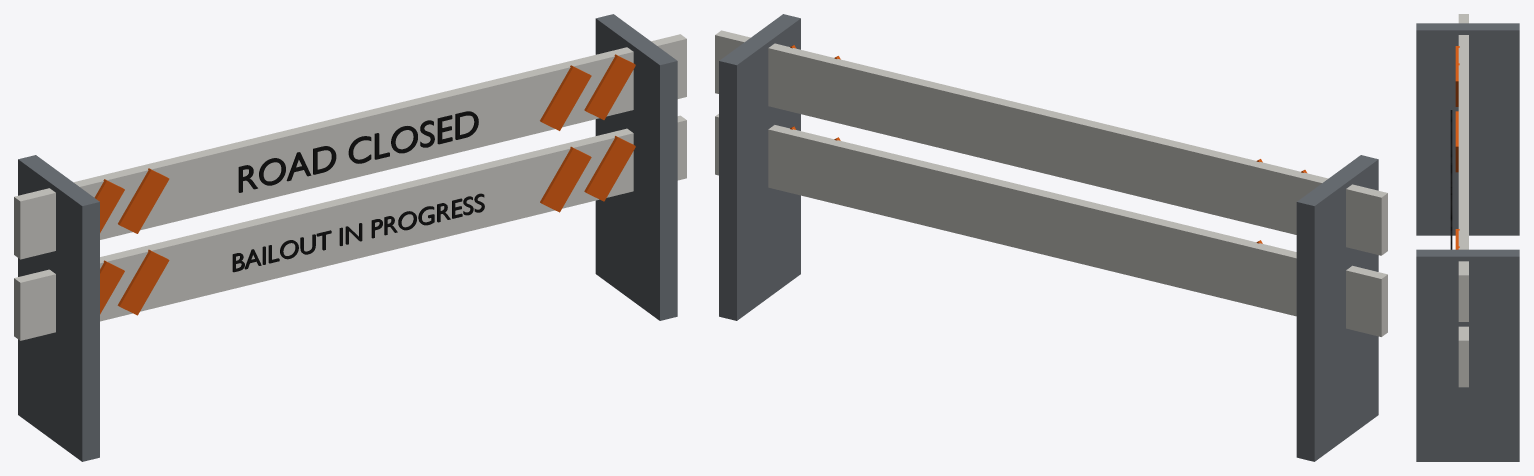
File: barricade.glb
The picture shows the model from 3 angles, left to right: view 1: azimuth 30°, elevation 25°; view 2: azimuth 150°, elevation 25°; view 3: azimuth 270°, elevation 25°; orthographic projection. The views are drawn at different scales.
Visible parts, largest first — view 1: barricade; view 2: barricade; view 3: barricade.
Boxes of the visible parts, <box> form: barricade: <box>14,14,686,461</box>; barricade: <box>715,14,1387,461</box>; barricade: <box>1416,14,1519,461</box>.
Size of what is drawn, in the model's own units: 3 by 1.1 by 0.5.
